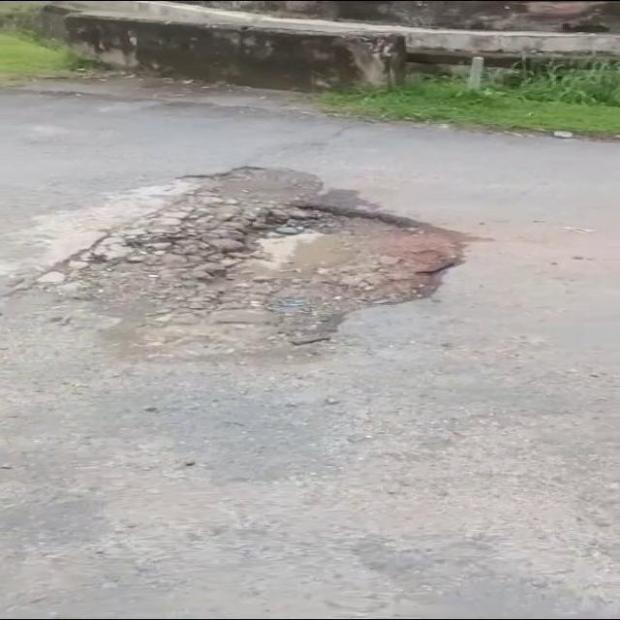lubang: (37, 168, 462, 351)
